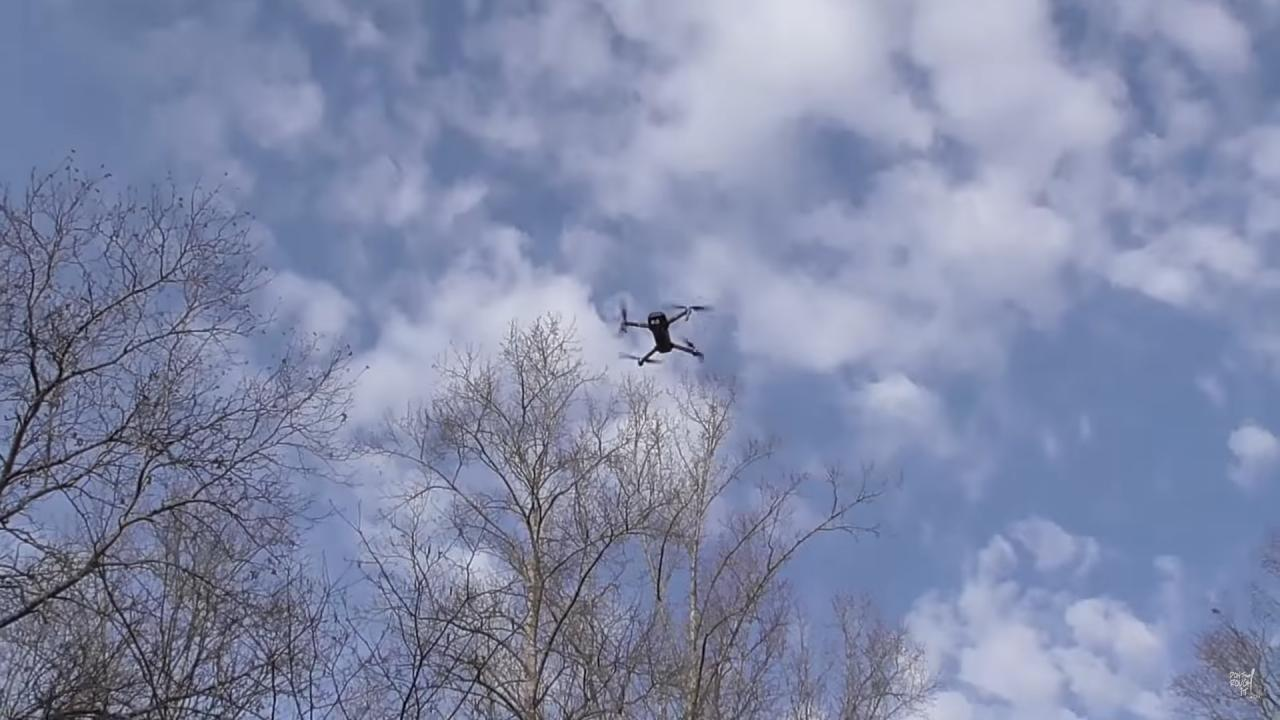Drone: (601, 290, 720, 380)
